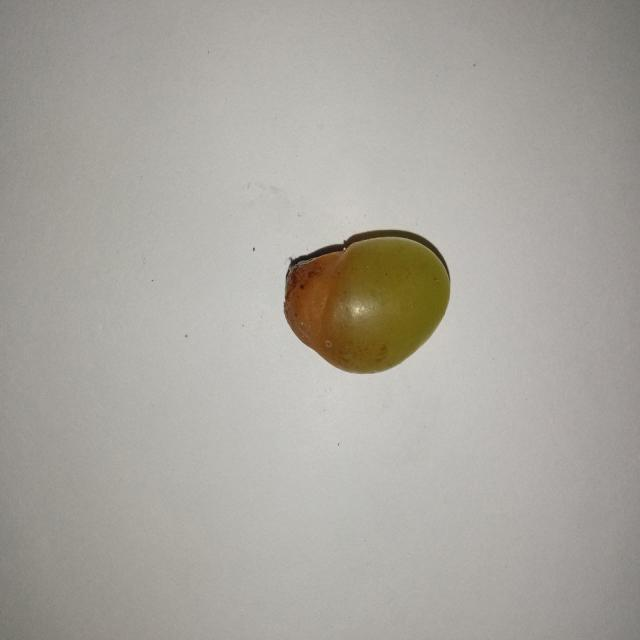rotten_grape: (294, 237, 446, 372)
